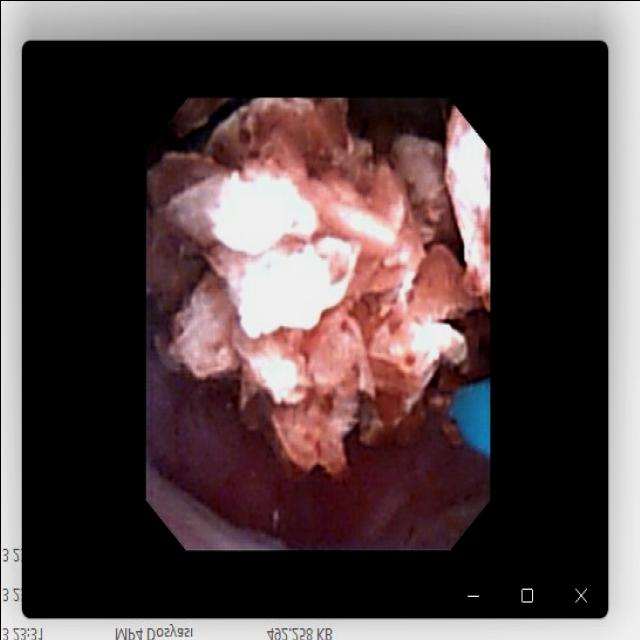fiber: (457, 385, 486, 450)
stone: (149, 101, 486, 477)
